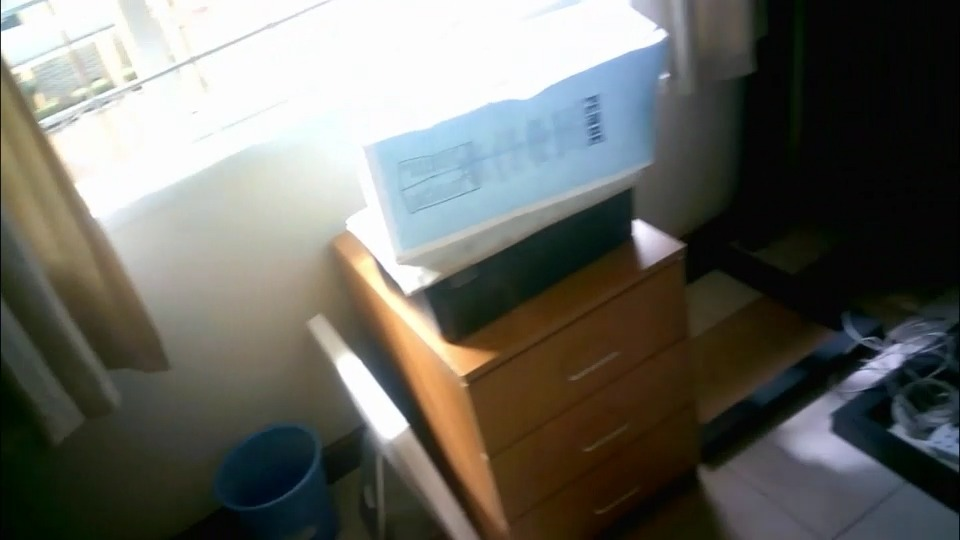wheat_flour_blue_label: (342, 1, 658, 252)
